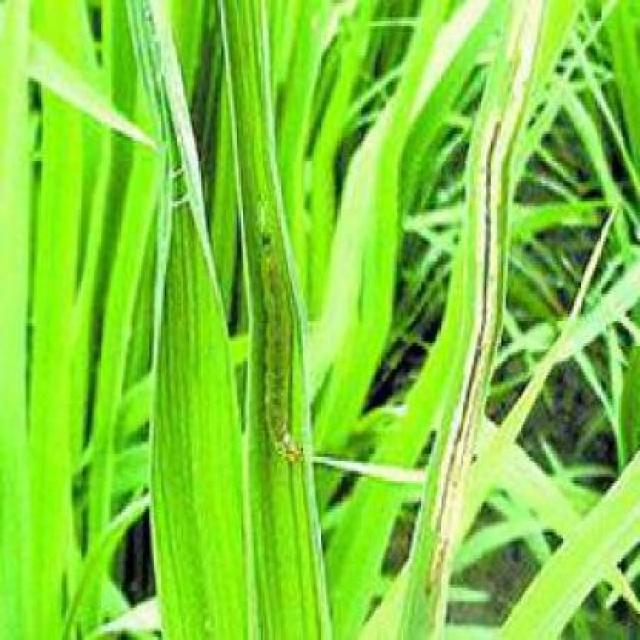leaf-folder: (236, 198, 333, 479)
